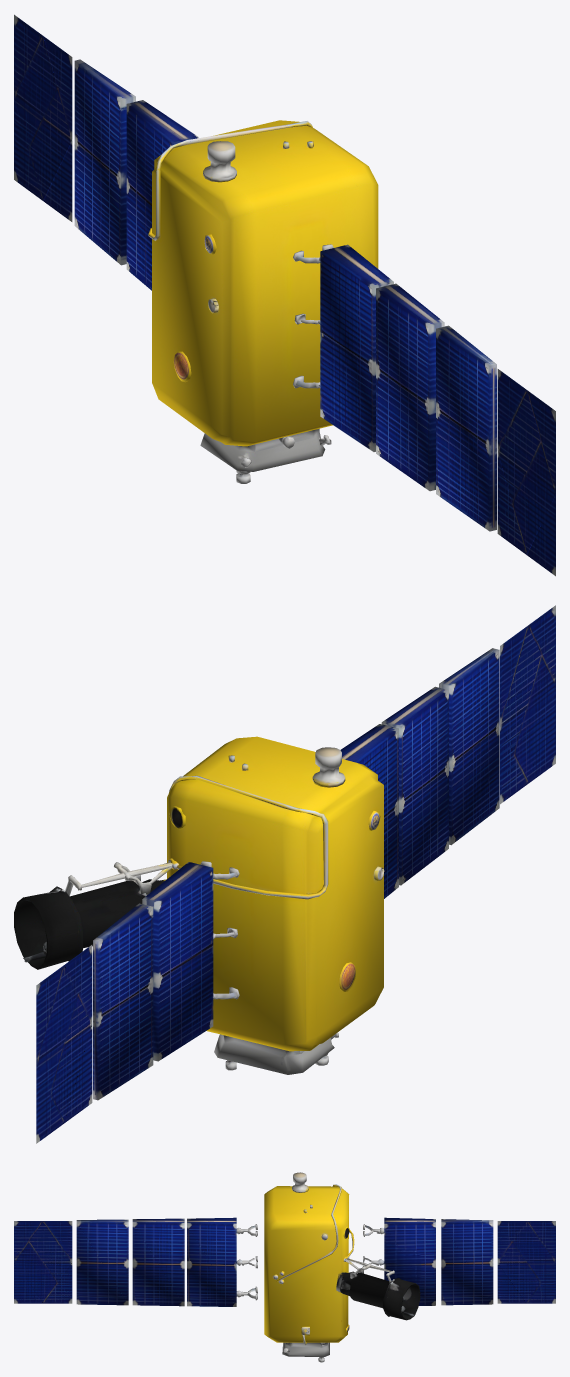
The model's file is etrrs-1-satellite.glb.
3 views of the same model, one above another, from view 1: azimuth 30°, elevation 25°; view 2: azimuth 150°, elevation 25°; view 3: azimuth 270°, elevation 25° (orthographic). The views are drawn at different scales.
Visible parts, largest first — view 1: tripo_node_e3474f83-3943-42a2-966f-f6a1250bc93d; view 2: tripo_node_e3474f83-3943-42a2-966f-f6a1250bc93d; view 3: tripo_node_e3474f83-3943-42a2-966f-f6a1250bc93d.
Part boxes in pixels (x1,y1,x2,y2): tripo_node_e3474f83-3943-42a2-966f-f6a1250bc93d: (14, 14, 555, 576); tripo_node_e3474f83-3943-42a2-966f-f6a1250bc93d: (14, 605, 555, 1143); tripo_node_e3474f83-3943-42a2-966f-f6a1250bc93d: (14, 1172, 555, 1362).
Size of the model in its own units: 0.2754 by 0.3418 by 0.998.
1 material, 1 textured.
